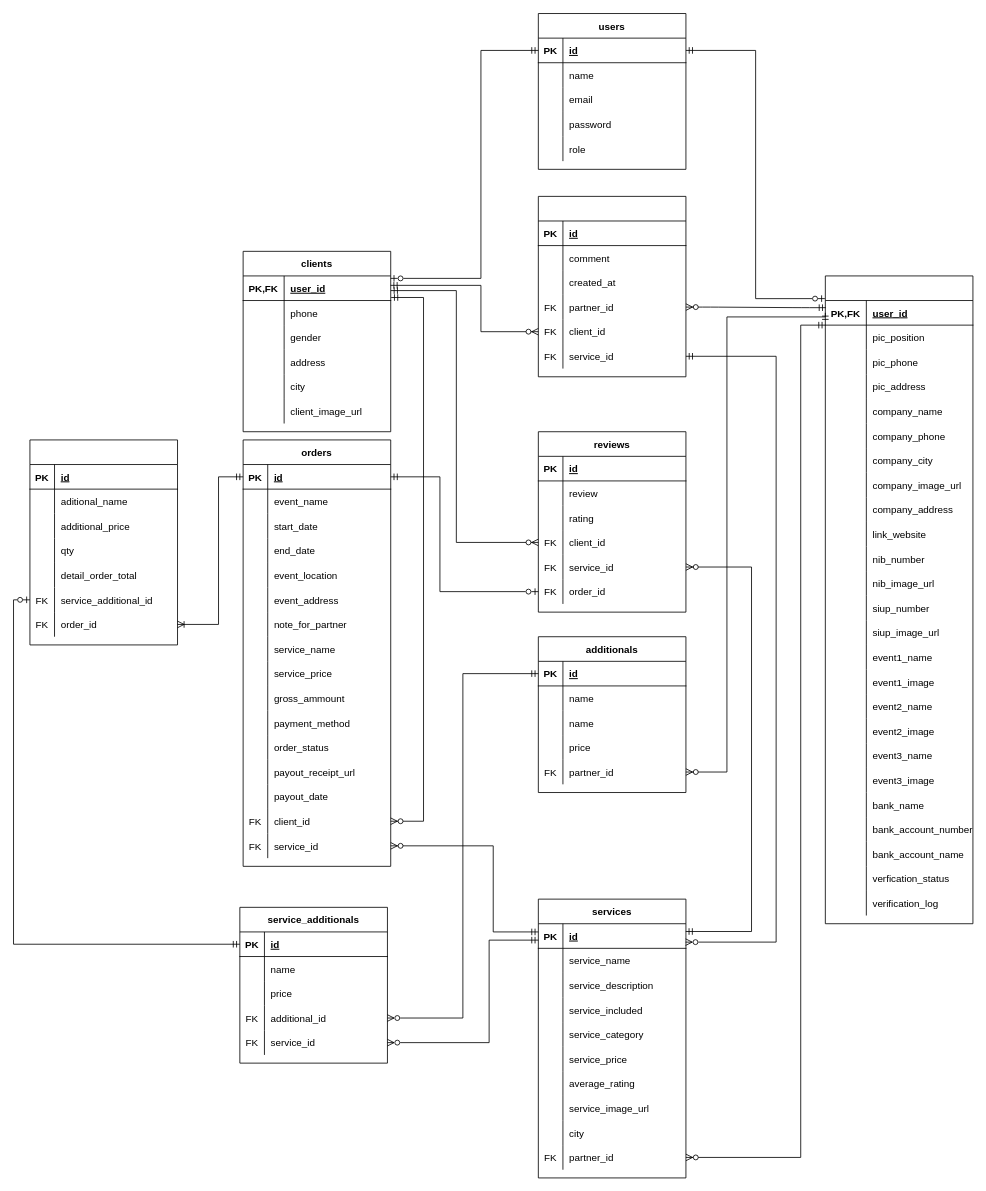
The diagram is 986 pixels wide and 1191 high, and some of its shapes have lost their labels. The box of each missing label's shape, as (x1, y1, x2, y2) in pixels:
detail_orders: (29, 439, 178, 645)
discussions: (538, 196, 686, 377)
partners: (825, 275, 973, 924)
